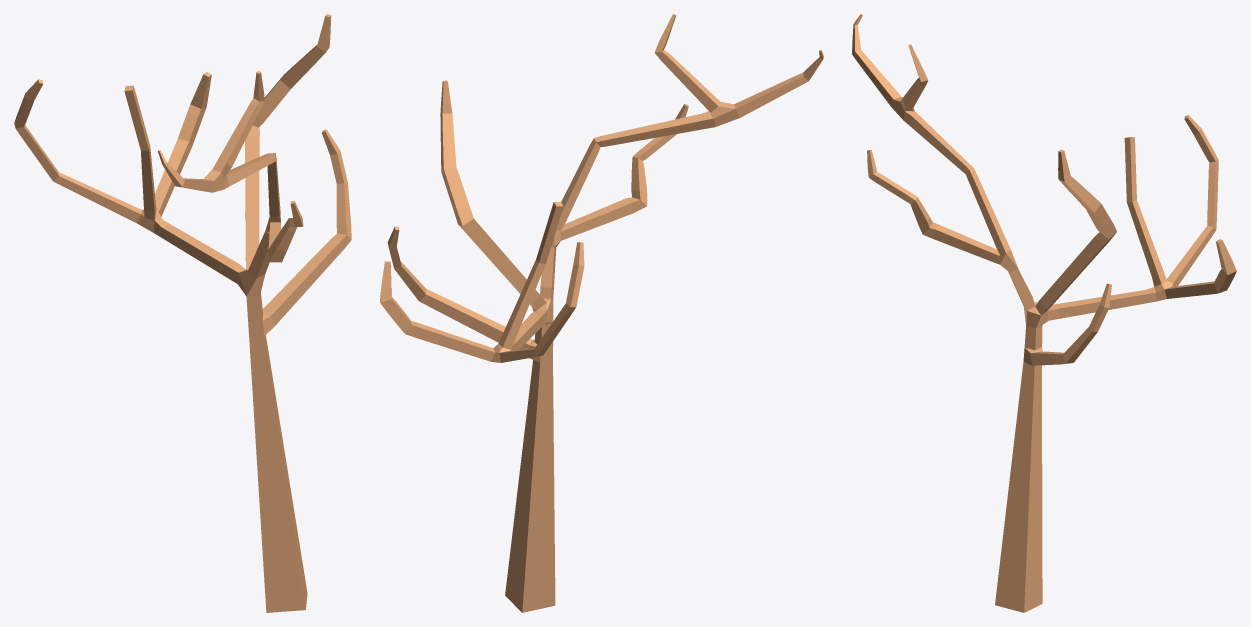
The model's file is tree_3.glb.
3 renders of one model, left to right at view 1: azimuth 30°, elevation 25°; view 2: azimuth 150°, elevation 25°; view 3: azimuth 270°, elevation 25°, orthographic. The views are drawn at different scales.
Visible parts, largest first — view 1: twig_tree_3.001; view 2: twig_tree_3.001; view 3: twig_tree_3.001.
Boxes of the visible parts, x1,y1,x2,y2 form: twig_tree_3.001: (14,14,351,612); twig_tree_3.001: (380,14,823,612); twig_tree_3.001: (852,14,1236,612).
Bounding box in the file's own units: 1.02 × 1.81 × 1.21.
Materials: 1 (1 with a texture image).
